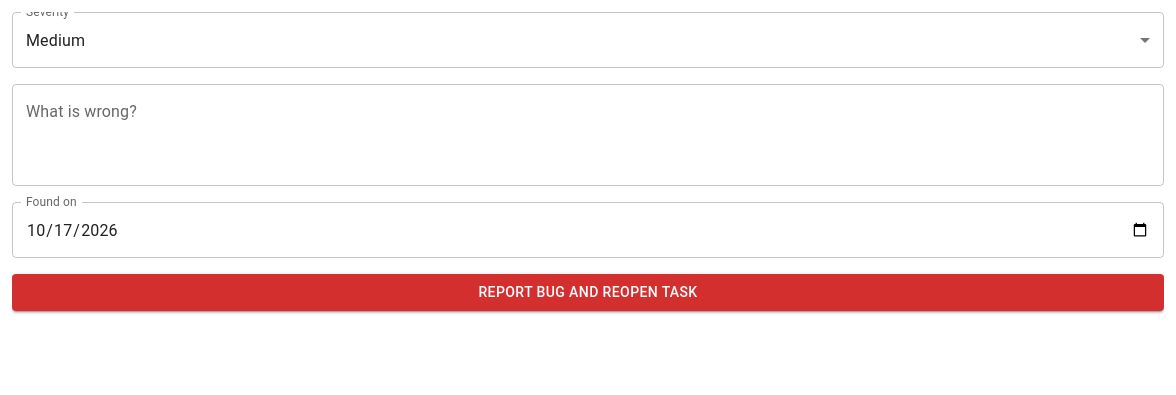
Test: BugReportForm › shows a business-rule rejection from the API
Type "Something broke" into the text box labelled "What is wrong?" at (588, 135), box [26, 100, 1150, 170]
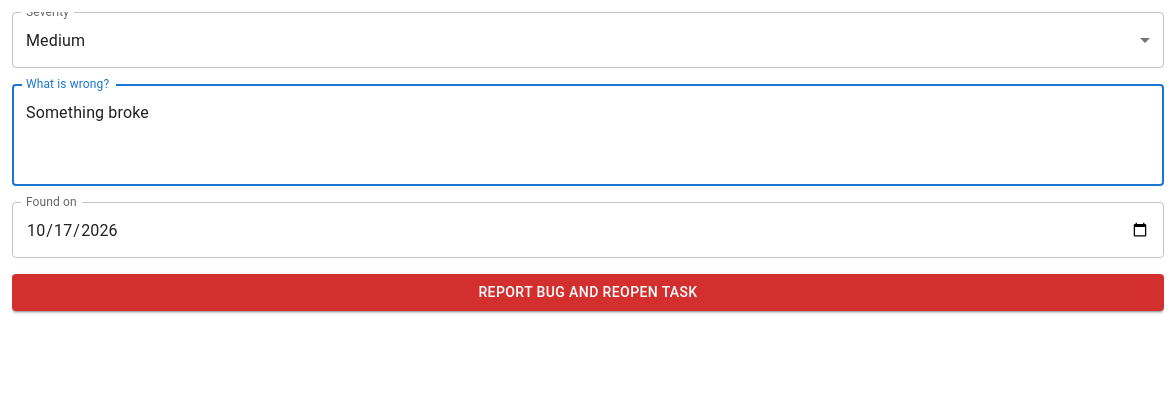
Click the button "Report bug and reopen task" at (588, 292), box [12, 274, 1164, 310]
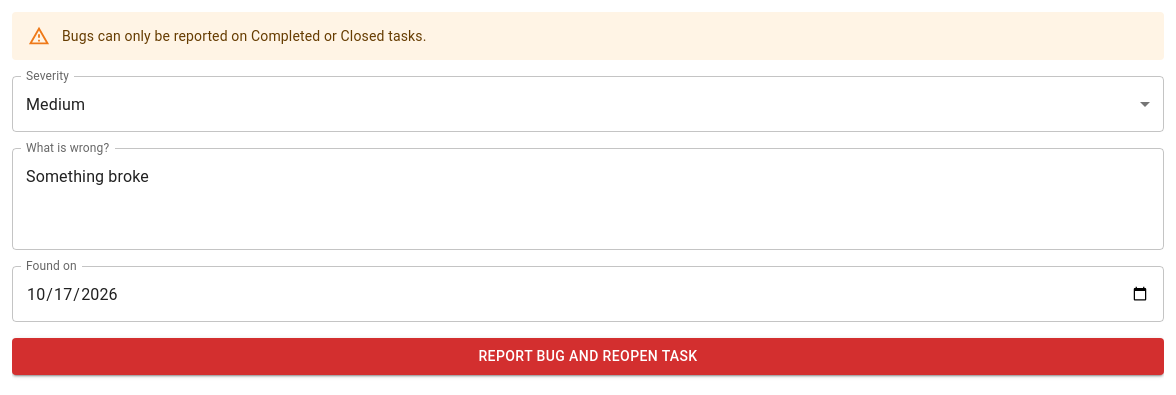
Expected: the text "Bugs can only be reported on Completed or Closed tasks." is shown, [62, 28, 426, 44]
